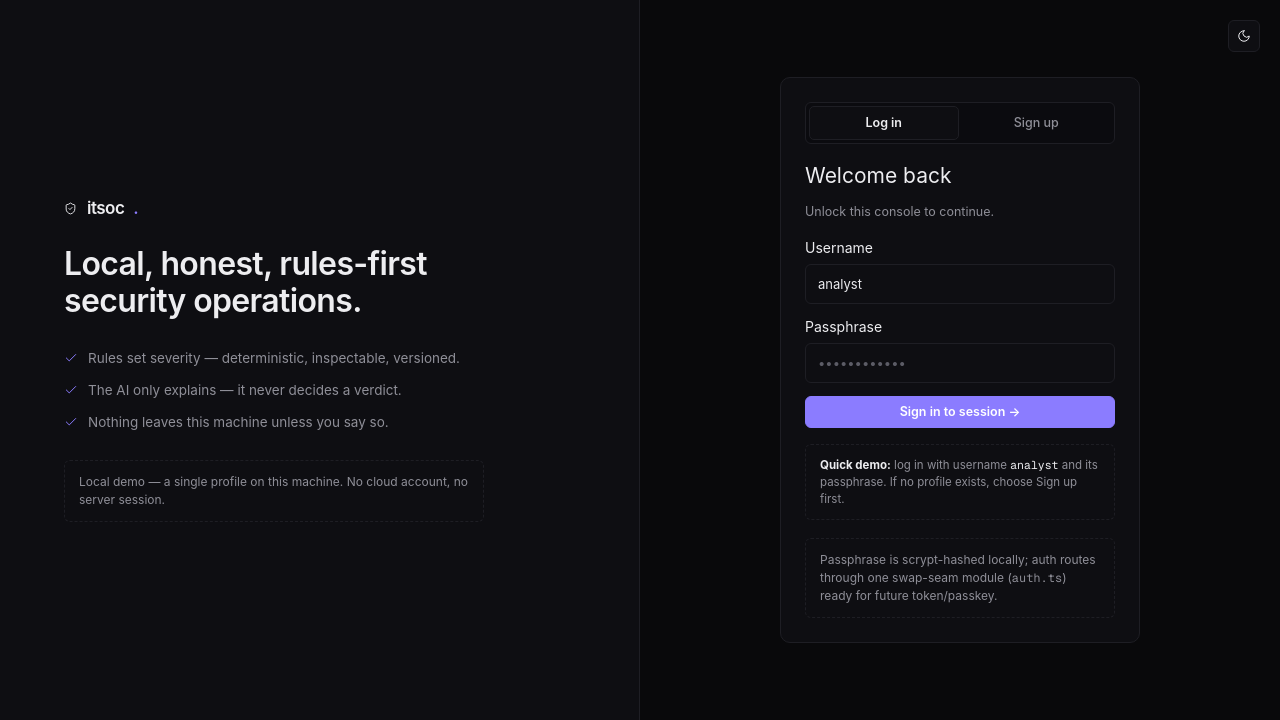
it: Auth subsystem & login screen (Phase 6) › switches between Sign In and Create Profile modes
This screenshot has width=1280, height=720.
Click the button "Sign up".
click(1036, 123)  # box [962,106,1111,140]
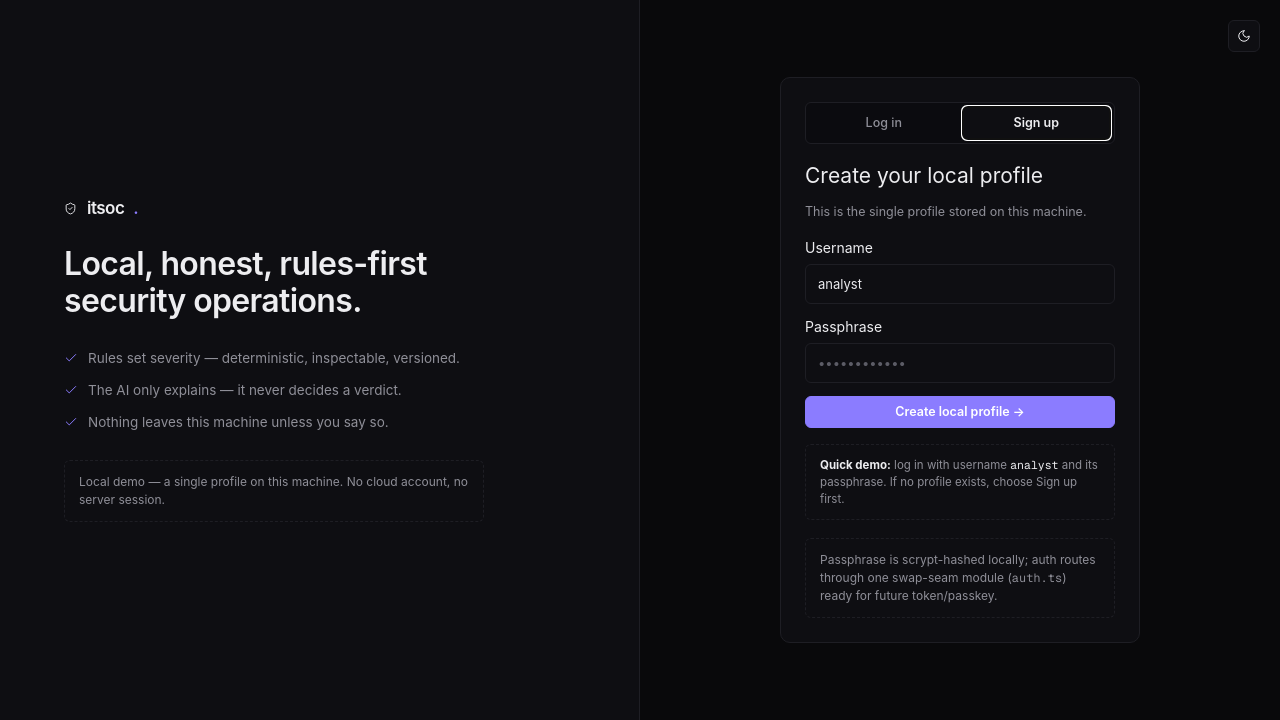
Check: the button "Create local profile →" is shown, box [805,396,1115,428]
